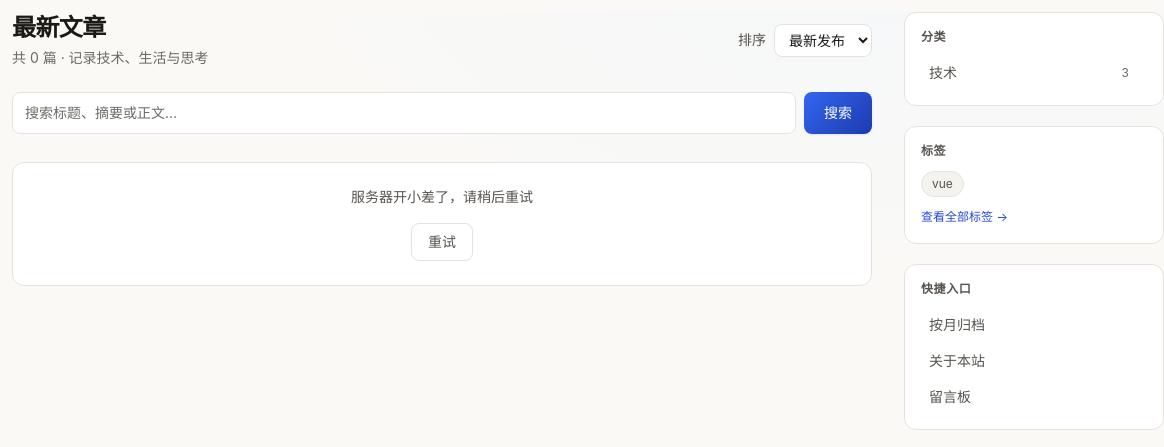
Scenario: HomeView · 加载 / 失败 / 空态 › 加载失败显示可读文案与重试入口；点重试能真的恢复
This screenshot has width=1164, height=447.
Click the button "重试". click: coordinates (442, 242)
box: 411,223 -> 473,261
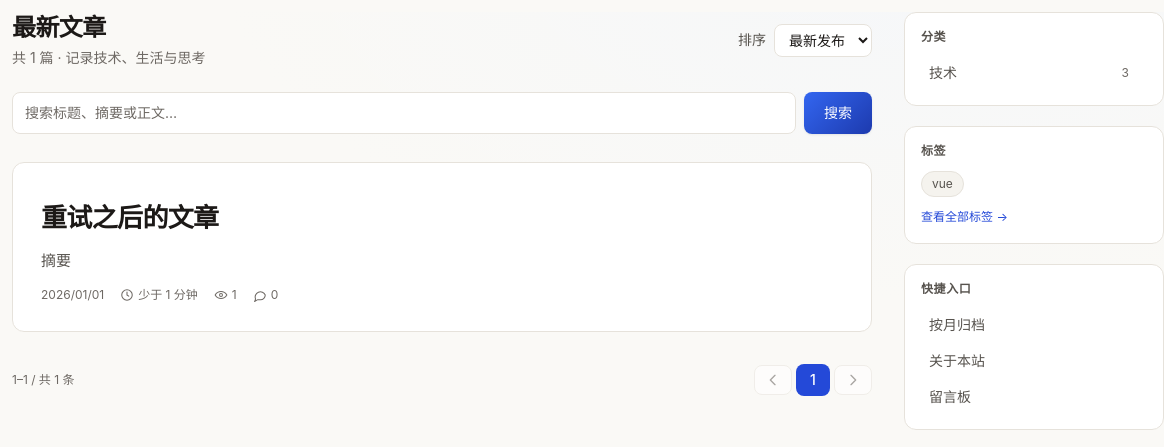
Expected: the text "重试之后的文章" is shown, 41,204 -> 218,233
Expected: the text "服务器开小差了" is gone
